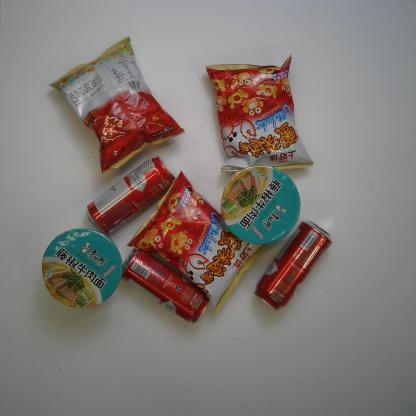Alcohol: (83, 153, 180, 238), (254, 216, 334, 313), (120, 245, 212, 325)
Instant Noodles: (38, 228, 124, 310), (220, 164, 302, 249)
Puffed Food: (126, 170, 273, 315), (47, 30, 187, 178), (203, 53, 317, 178)
